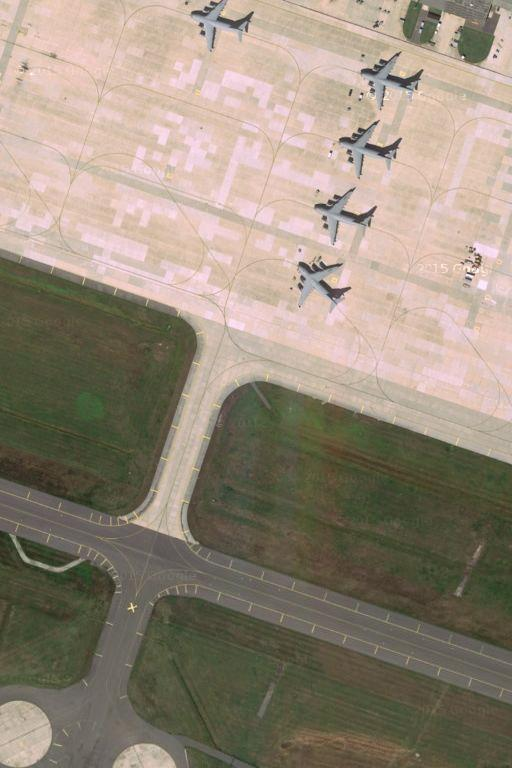C-17: (336, 119, 404, 178), (311, 185, 379, 244), (359, 49, 425, 109), (293, 253, 354, 313), (185, 3, 253, 55)
